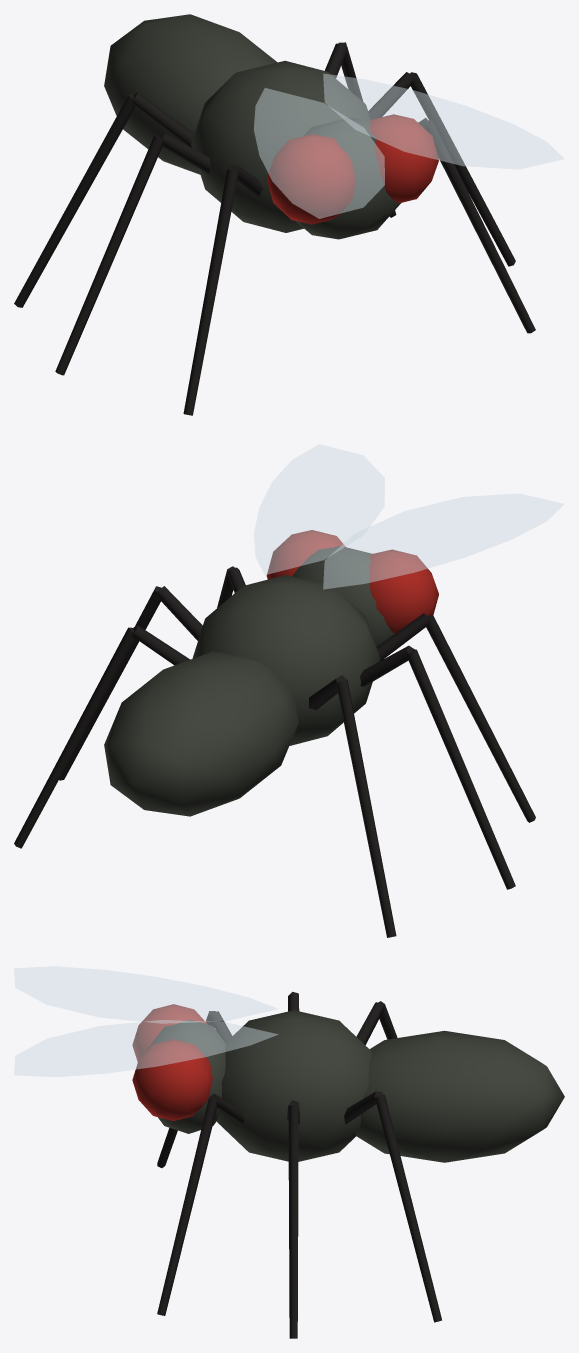
Rendered from fly.glb.
3 renders of one model, top to bottom at view 1: azimuth 30°, elevation 25°; view 2: azimuth 150°, elevation 25°; view 3: azimuth 270°, elevation 25°, orthographic. The views are drawn at different scales.
Visible parts, largest first — view 1: fly; view 2: fly; view 3: fly.
Boxes of the visible parts, <box> form: fly: <box>14,14,564,415</box>; fly: <box>14,444,563,937</box>; fly: <box>14,966,564,1338</box>.
Size of the model in its own units: 1.26 by 0.6551 by 1.46.
